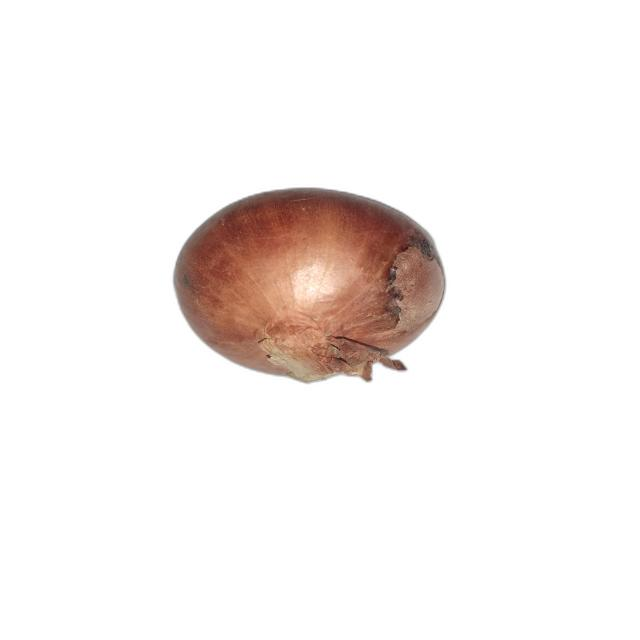onion: (172, 187, 448, 384)
